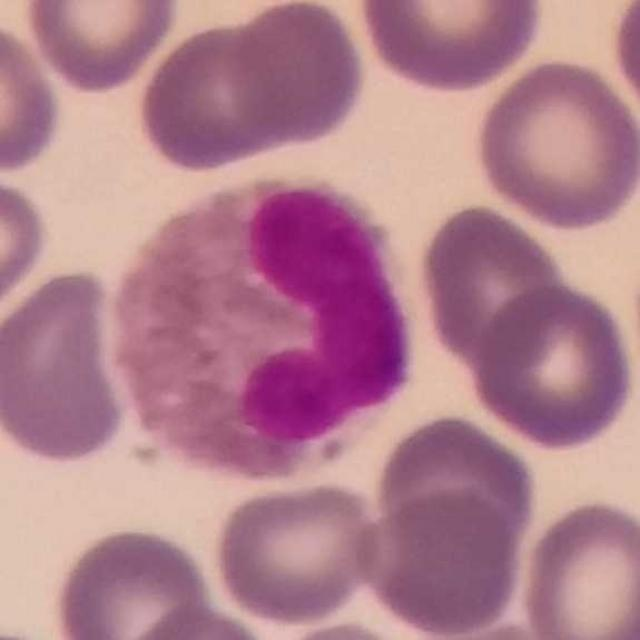eosino: (105, 173, 416, 483)
